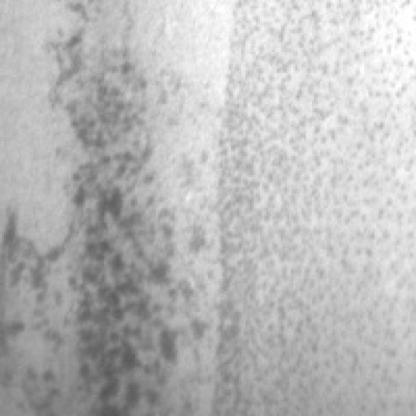pitted_surface: (210, 0, 412, 414), (2, 0, 196, 412)
